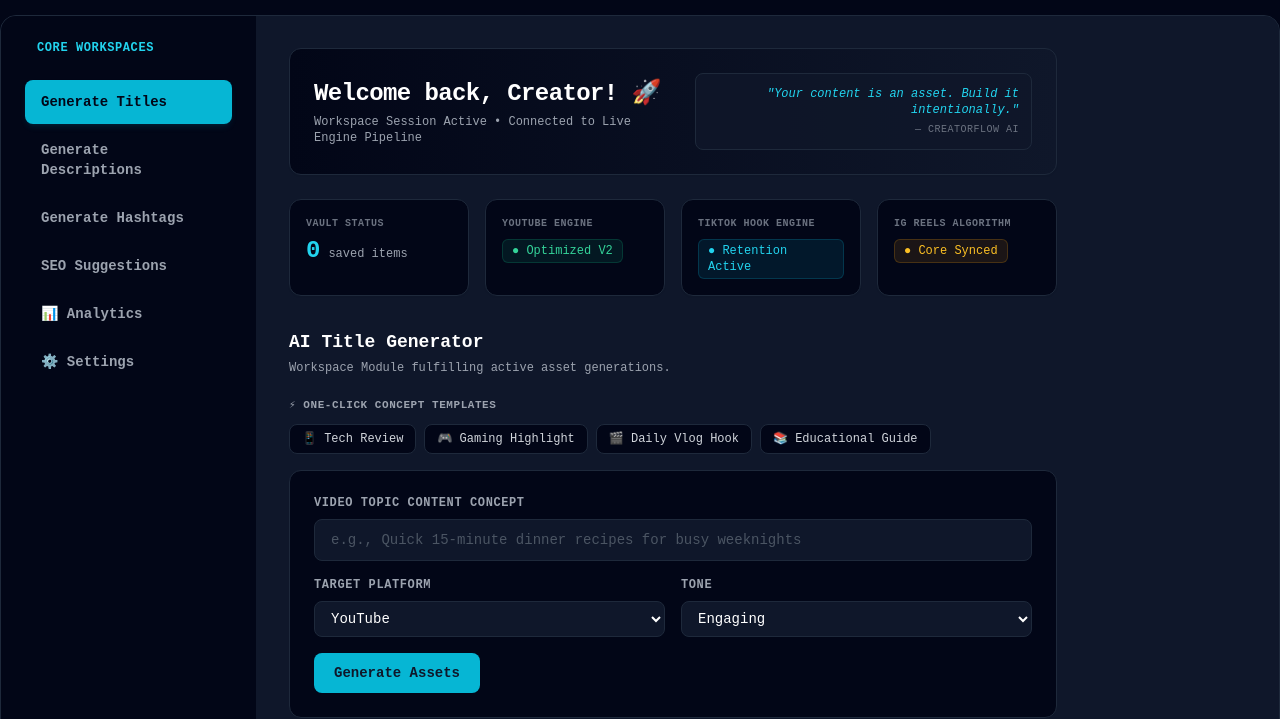
Test: AIToolStudio — AI generation (US-03 to US-06) › shows the server error message when the API returns success: false
In the field with placeholder "e.g., Quick 15-minute dinner recipes for busy weeknights": (673, 540) [314,519,1032,561], type "x"
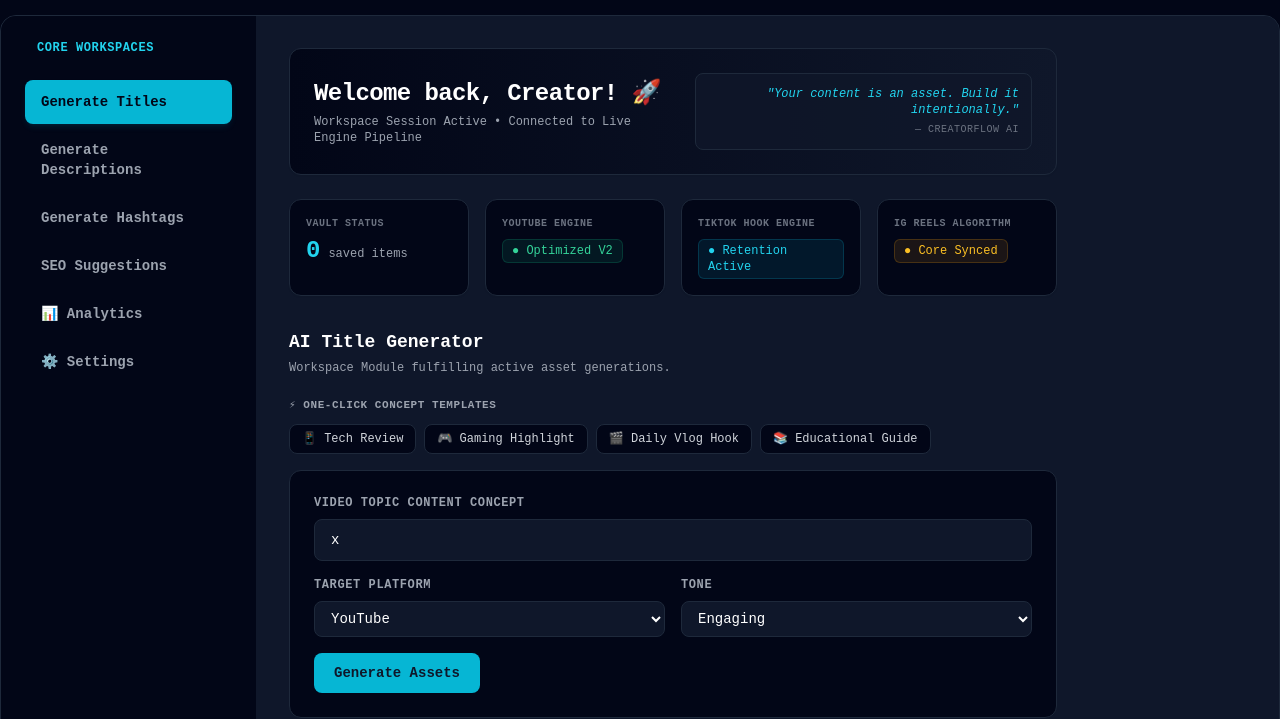
Click the button "Generate Assets": (397, 673) [314,653,480,693]
(page scrolled)
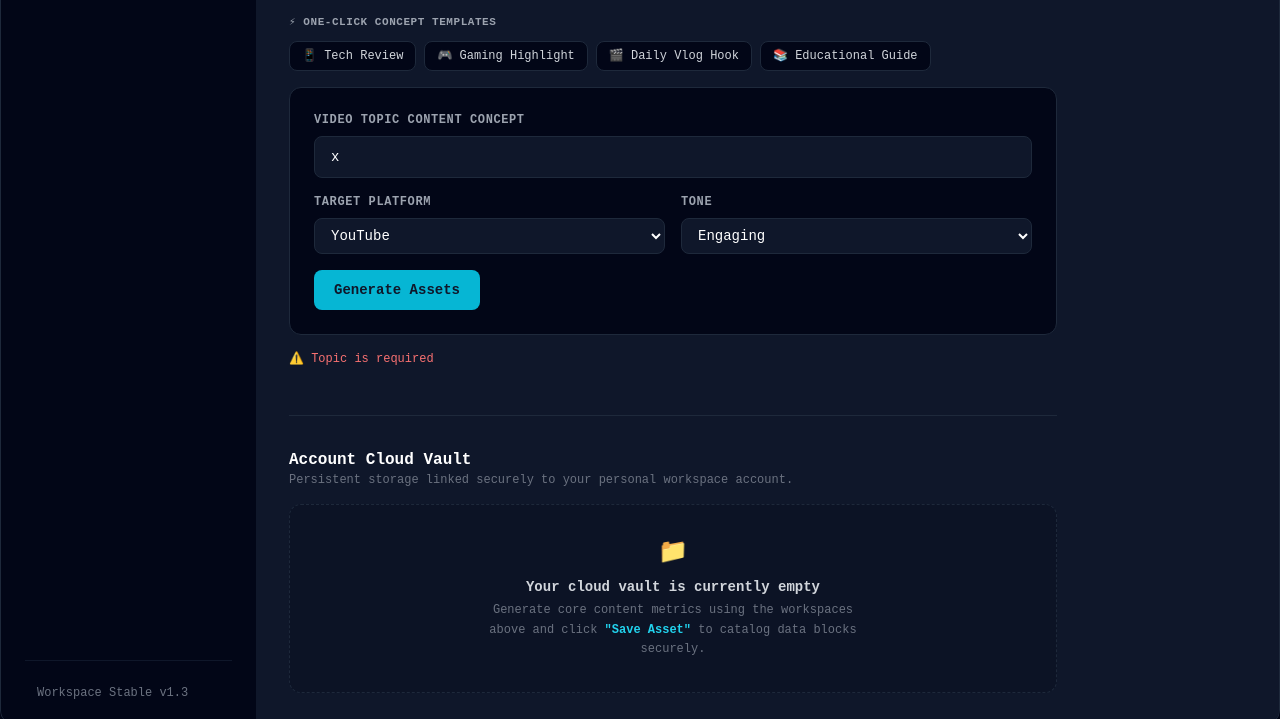
Expected: the text "⚠️ Topic is required" is shown, [289,352,434,366]
